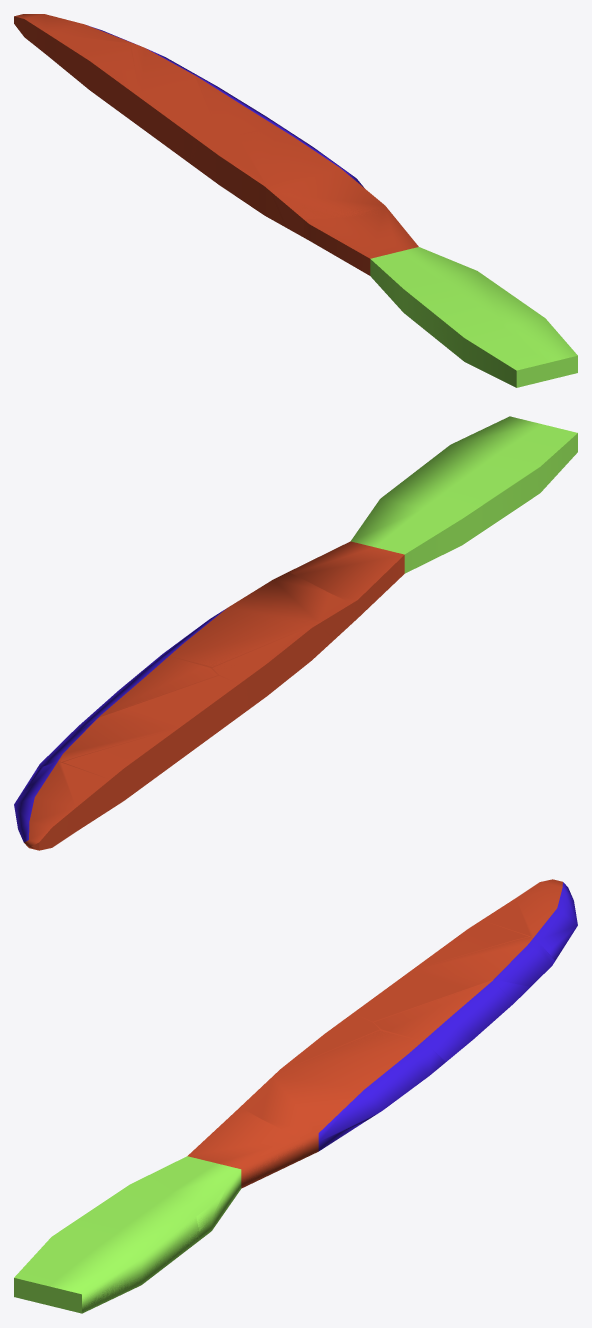
The model's file is P_Couteau_Colored_Breakable.fbx.
The picture shows the model from 3 angles, top to bottom: view 1: azimuth 30°, elevation 25°; view 2: azimuth 150°, elevation 25°; view 3: azimuth 330°, elevation 25°; orthographic projection. The views are drawn at different scales.
Parts seen in each view (by area): view 1: P_Couteau_Colored_Breakable, P_Couteau_Colored_Breakable_cell.008, P_Couteau_Colored_Breakable_cell.007, P_Couteau_Colored_Breakable_cell.003, P_Couteau_Colored_Breakable_cell.001, P_Couteau_Colored_Breakable_cell, P_Couteau_Colored_Breakable_cell.009, P_Couteau_Colored_Breakable_cell.006, P_Couteau_Colored_Breakable_cell.002; view 2: P_Couteau_Colored_Breakable, P_Couteau_Colored_Breakable_cell.008, P_Couteau_Colored_Breakable_cell.007, P_Couteau_Colored_Breakable_cell, P_Couteau_Colored_Breakable_cell.003, P_Couteau_Colored_Breakable_cell.009, P_Couteau_Colored_Breakable_cell.001, P_Couteau_Colored_Breakable_cell.006; view 3: P_Couteau_Colored_Breakable, P_Couteau_Colored_Breakable_cell.008, P_Couteau_Colored_Breakable_cell.007, P_Couteau_Colored_Breakable_cell.009, P_Couteau_Colored_Breakable_cell, P_Couteau_Colored_Breakable_cell.002, P_Couteau_Colored_Breakable_cell.001, P_Couteau_Colored_Breakable_cell.003, P_Couteau_Colored_Breakable_cell.006.
Part boxes in pixels (x1,y1,x2,y2): P_Couteau_Colored_Breakable: [14, 16, 577, 387]; P_Couteau_Colored_Breakable_cell.008: [238, 127, 390, 237]; P_Couteau_Colored_Breakable_cell.007: [131, 43, 217, 147]; P_Couteau_Colored_Breakable_cell.003: [190, 134, 284, 226]; P_Couteau_Colored_Breakable_cell.001: [78, 44, 140, 121]; P_Couteau_Colored_Breakable_cell: [14, 14, 134, 84]; P_Couteau_Colored_Breakable_cell.009: [197, 77, 293, 134]; P_Couteau_Colored_Breakable_cell.006: [304, 220, 429, 332]; P_Couteau_Colored_Breakable_cell.002: [429, 310, 577, 387]; P_Couteau_Colored_Breakable: [24, 416, 577, 850]; P_Couteau_Colored_Breakable_cell.008: [147, 572, 352, 666]; P_Couteau_Colored_Breakable_cell.007: [37, 675, 238, 768]; P_Couteau_Colored_Breakable_cell: [14, 762, 116, 850]; P_Couteau_Colored_Breakable_cell.003: [212, 625, 333, 718]; P_Couteau_Colored_Breakable_cell.009: [78, 656, 217, 726]; P_Couteau_Colored_Breakable_cell.001: [63, 727, 180, 803]; P_Couteau_Colored_Breakable_cell.006: [352, 507, 491, 621]; P_Couteau_Colored_Breakable: [14, 920, 554, 1313]; P_Couteau_Colored_Breakable_cell.008: [240, 1030, 445, 1158]; P_Couteau_Colored_Breakable_cell.007: [353, 937, 554, 1021]; P_Couteau_Colored_Breakable_cell.009: [374, 981, 513, 1061]; P_Couteau_Colored_Breakable_cell: [482, 879, 577, 960]; P_Couteau_Colored_Breakable_cell.002: [14, 1217, 198, 1313]; P_Couteau_Colored_Breakable_cell.001: [413, 920, 528, 969]; P_Couteau_Colored_Breakable_cell.003: [275, 1013, 379, 1073]; P_Couteau_Colored_Breakable_cell.006: [202, 1143, 301, 1232].
Size of the model in its own units: 21.49 by 6.32 by 194.
